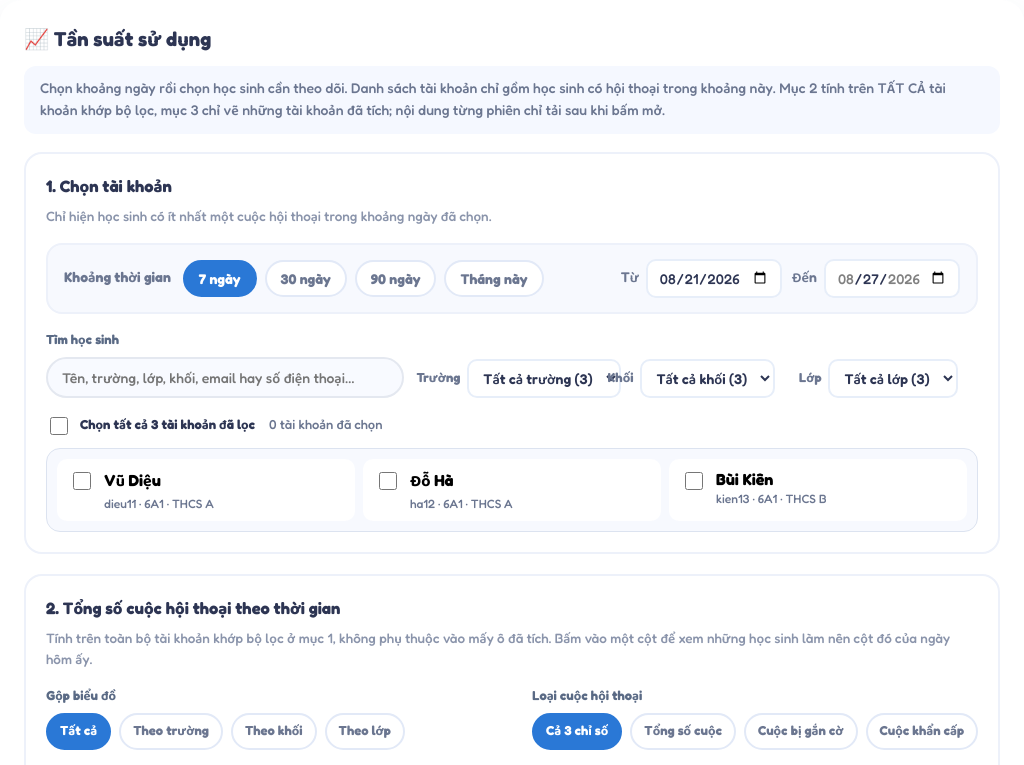
Test: biểu đồ tổng gộp theo trường, khối, lớp và luôn ghi rõ lớp thuộc trường nào
Click the button "Theo lớp": [365, 731] box [325, 713, 405, 750]
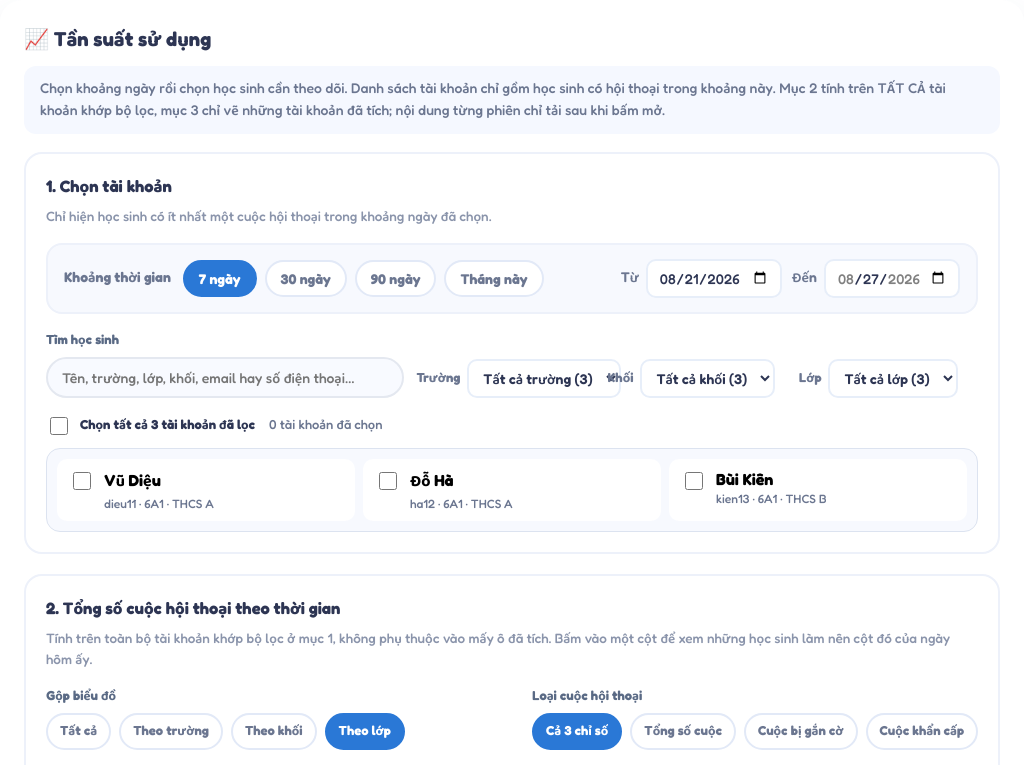
Click the button "Theo khối": [274, 731] box [231, 713, 317, 750]
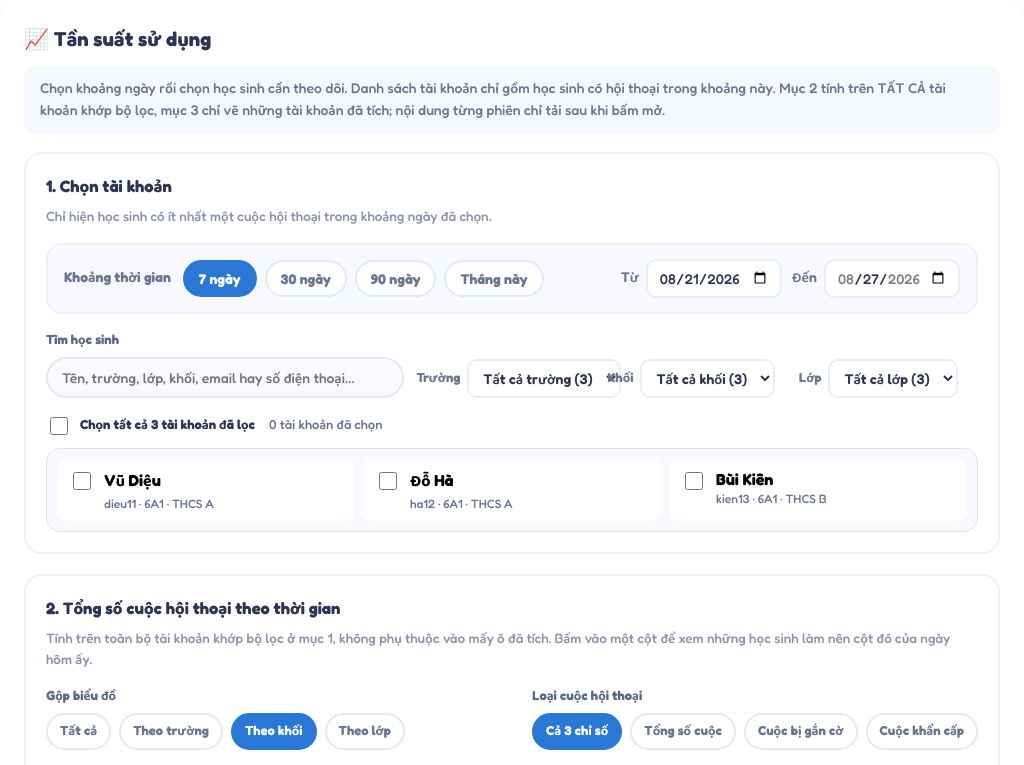
Click the button "Theo trường": [171, 731] box [119, 713, 223, 750]
(page scrolled)
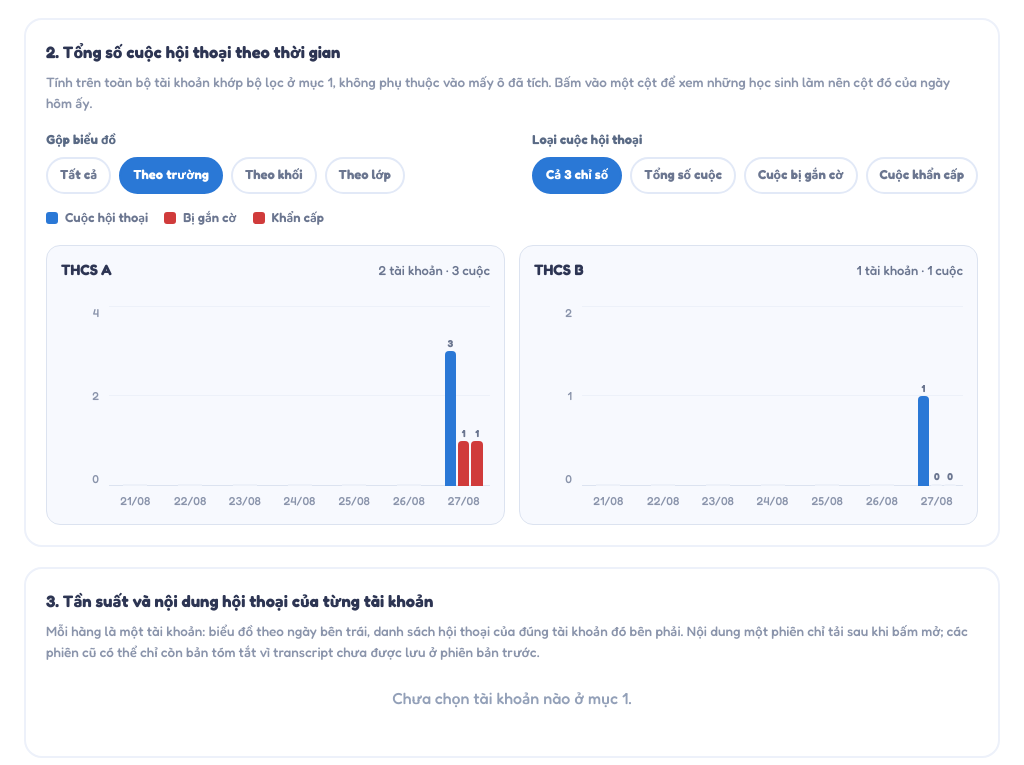
Expected: the text "2 tài khoản · 3 cuộc" is shown, [378, 261, 490, 282]
Expected: the element named "Biểu đồ tổng — THCS B" is shown, [519, 245, 978, 525]
